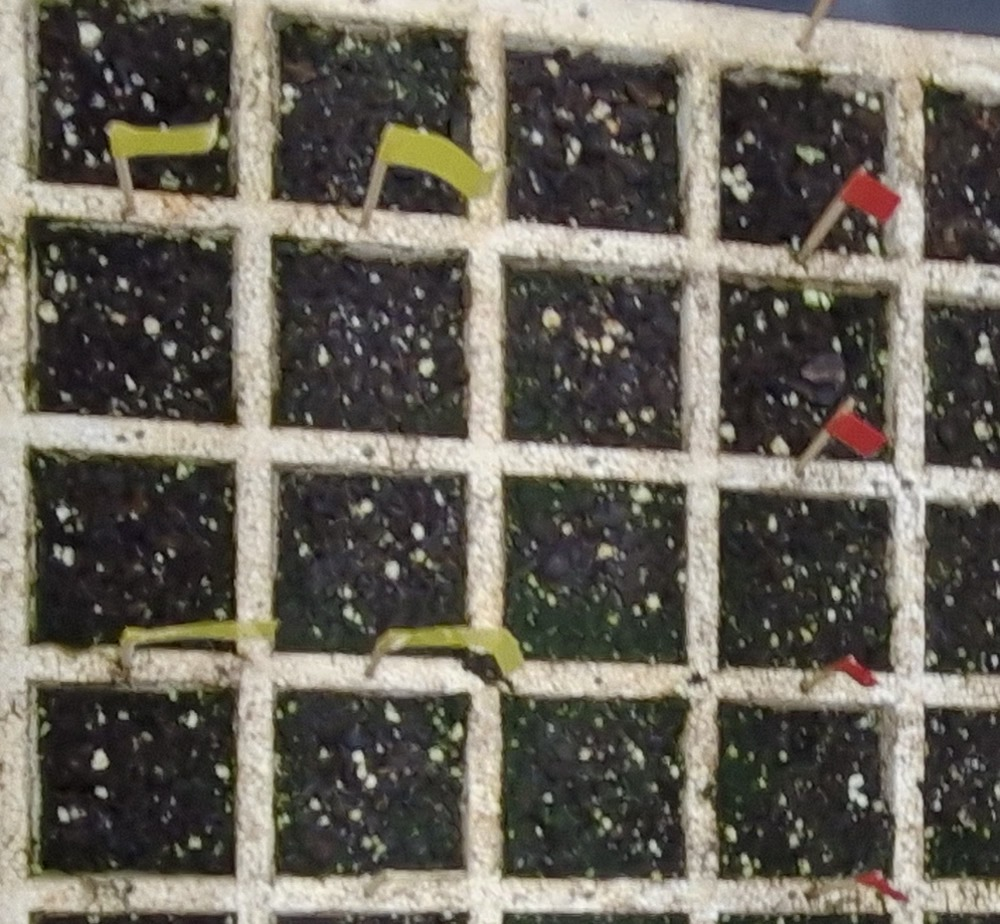Folha: (282, 584, 298, 613), (300, 589, 316, 610)
Germinacao: (282, 584, 316, 613)
